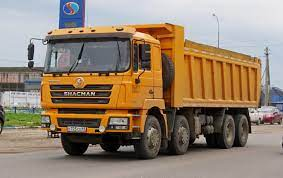Truck: (42, 23, 261, 158)
